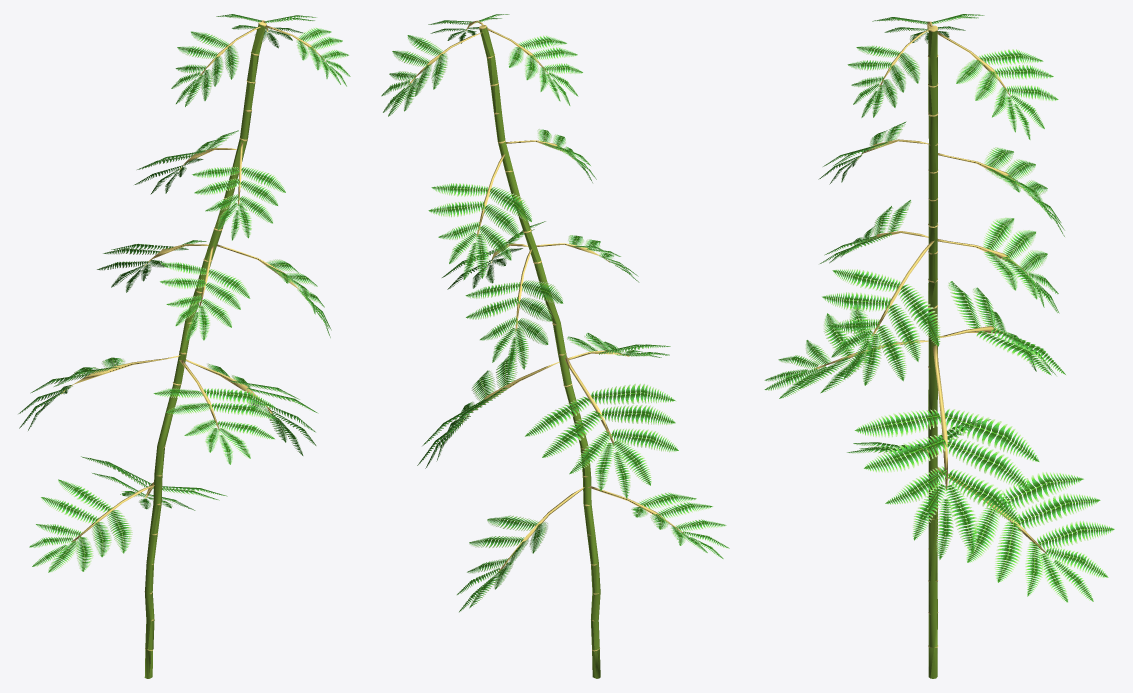
The model's file is bamboo2.fbx.
The picture shows the model from 3 angles, left to right: view 1: azimuth 30°, elevation 25°; view 2: azimuth 150°, elevation 25°; view 3: azimuth 270°, elevation 25°; orthographic projection. The views are drawn at different scales.
Visible parts, largest first — view 1: base, leaf, leaf.010, leaf.005, leaf.007, leaf.001, leaf.011, leaf.002, leaf.006, leaf.009, leaf.012, leaf.008 (+2 smaller); view 2: leaf.009, base, leaf.004, leaf.006, leaf.012, leaf, leaf.003, leaf.001, leaf.011, leaf.010, leaf.008, leaf.007 (+2 smaller); view 3: leaf.011, leaf.012, leaf.008, base, leaf.003, leaf.010, leaf.006, leaf.009, leaf.002, leaf.004, leaf.007, leaf.005 (+2 smaller).
Part boxes in pixels (box(x1,y1,x2,y2)): base: box(144, 22, 266, 678); leaf: box(29, 479, 154, 572); leaf.010: box(153, 360, 275, 464); leaf.005: box(192, 142, 285, 240); leaf.007: box(160, 246, 250, 340); leaf.001: box(171, 26, 260, 106); leaf.011: box(185, 359, 318, 455); leaf.002: box(265, 25, 350, 86); leaf.006: box(97, 240, 208, 292); leaf.009: box(18, 355, 180, 430); leaf.012: box(81, 456, 227, 510); leaf.008: box(217, 244, 331, 337); leaf.009: box(525, 355, 678, 498); base: box(479, 25, 600, 678); leaf.004: box(428, 154, 531, 280); leaf.006: box(465, 249, 563, 374); leaf.012: box(457, 487, 584, 612); leaf: box(588, 486, 729, 558); leaf.003: box(381, 32, 481, 116); leaf.001: box(482, 25, 582, 105); leaf.011: box(417, 351, 559, 468); leaf.010: box(567, 333, 670, 359); leaf.008: box(442, 221, 545, 289); leaf.007: box(536, 235, 639, 282); leaf.011: box(854, 345, 1039, 559); leaf.012: box(936, 467, 1114, 602); leaf.008: box(822, 240, 940, 385); base: box(928, 25, 938, 678); leaf.003: box(937, 31, 1058, 139); leaf.010: box(764, 305, 928, 398); leaf.006: box(937, 217, 1059, 313); leaf.009: box(938, 281, 1065, 375); leaf.002: box(847, 29, 928, 117); leaf.004: box(938, 147, 1064, 236); leaf.007: box(820, 200, 928, 263); leaf.005: box(818, 121, 928, 184).
Bounding box in the file's own units: 906 × 1732 × 786.
